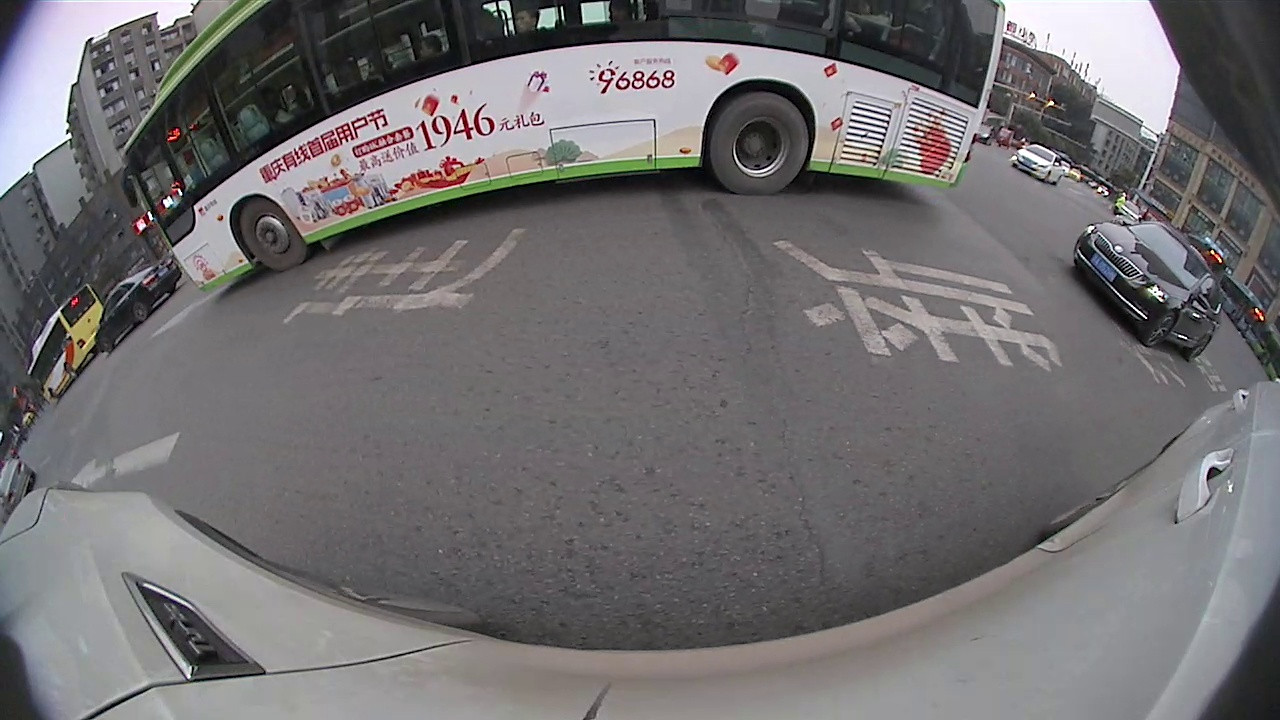bus: (118, 1, 1008, 306), (24, 281, 105, 411)
car: (1073, 220, 1229, 361), (92, 256, 182, 356), (1013, 141, 1068, 184)
front: (235, 193, 312, 273), (1140, 309, 1180, 348)
rear: (706, 85, 813, 201)
